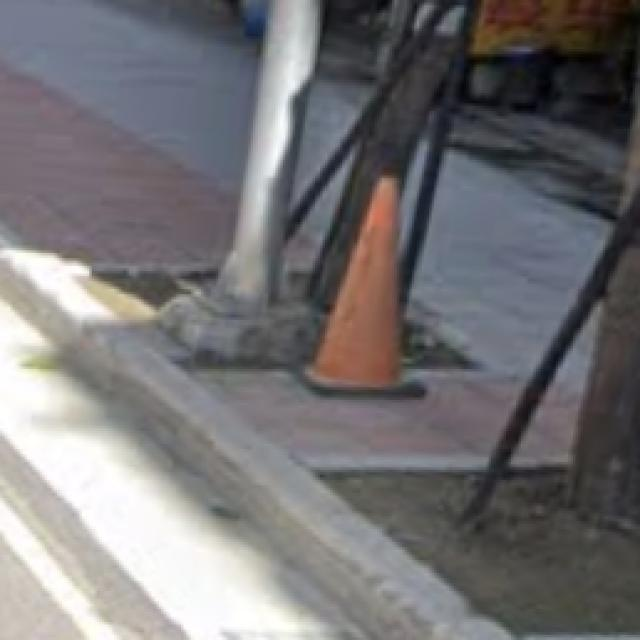cone: (306, 166, 410, 390)
